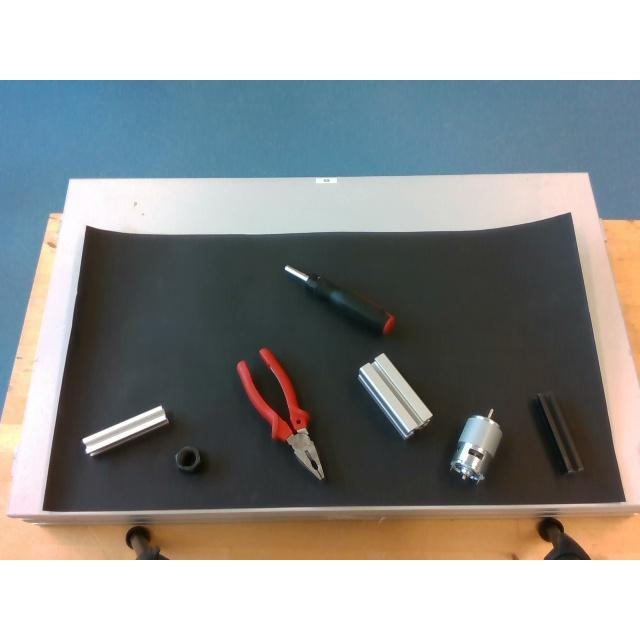F20_20_B: (537, 391, 583, 473)
F20_20_G: (82, 406, 170, 454)
M20: (175, 446, 201, 470)
Motor2: (450, 410, 502, 482)
S40_40_G: (360, 354, 432, 438)
